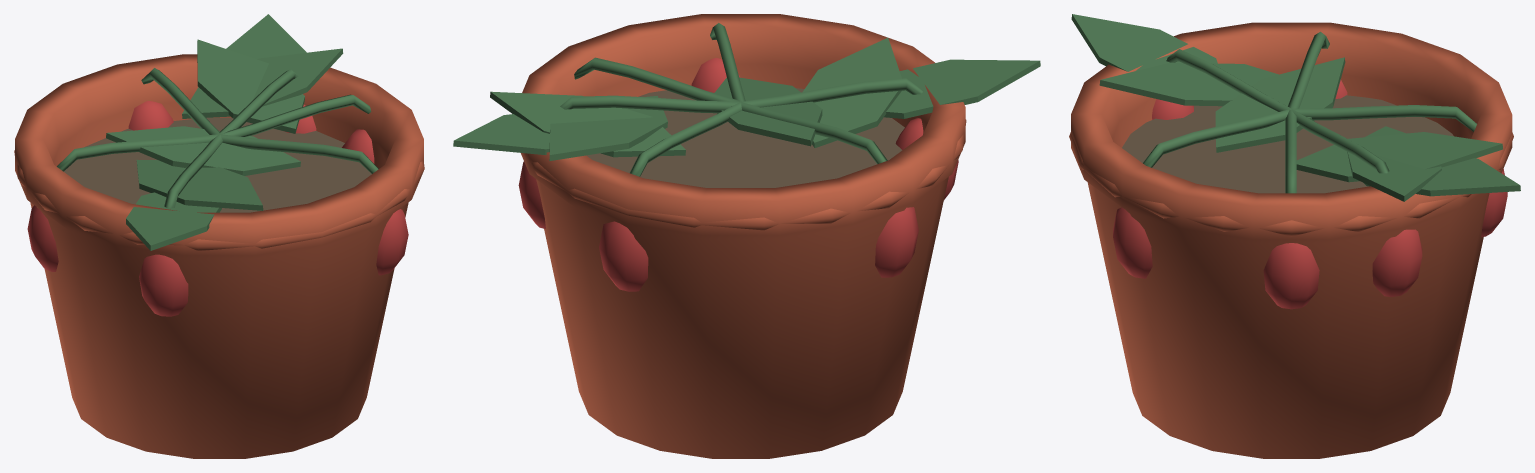
Rendered from almanac-gardens-strawberry-planter-5eac8161__22050.glb.
3 renders of one model, left to right at view 1: azimuth 30°, elevation 25°; view 2: azimuth 150°, elevation 25°; view 3: azimuth 270°, elevation 25°, orthographic. The views are drawn at different scales.
Visible parts, largest first — view 1: strawberry-planter-clay, strawberry-planter-leaf, strawberry-planter-soil, strawberry-planter-red; view 2: strawberry-planter-clay, strawberry-planter-leaf, strawberry-planter-soil, strawberry-planter-red; view 3: strawberry-planter-clay, strawberry-planter-leaf, strawberry-planter-soil, strawberry-planter-red.
Part boxes in pixels (x1,y1,x2,y2): strawberry-planter-clay: (14,54,424,458); strawberry-planter-leaf: (57,14,378,250); strawberry-planter-soil: (64,117,371,212); strawberry-planter-red: (27,101,408,316); strawberry-planter-clay: (521,14,966,458); strawberry-planter-leaf: (453,23,1040,176); strawberry-planter-soil: (586,88,904,187); strawberry-planter-red: (518,58,958,291); strawberry-planter-clay: (1069,22,1513,458); strawberry-planter-leaf: (1071,14,1520,201); strawberry-planter-soil: (1122,95,1453,193); strawberry-planter-red: (1113,79,1507,309).
Size of the model in its own units: 0.5648 by 0.4096 by 0.5735.
